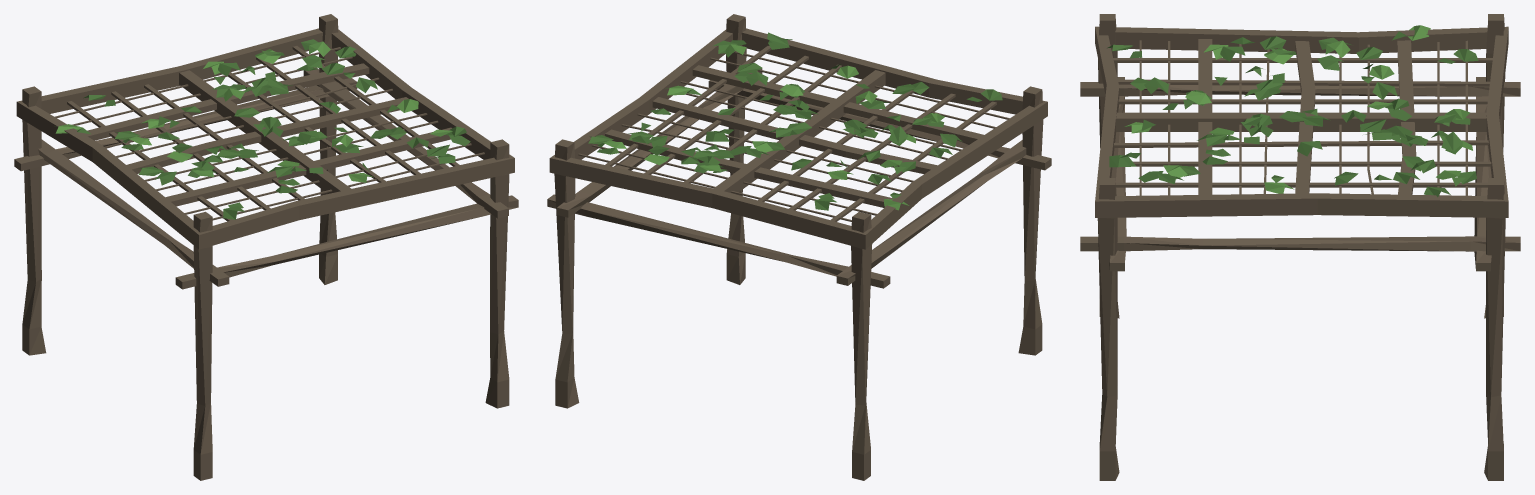
The model's file is SM_Bld_Cuba_Sunshade_01.glb.
The picture shows the model from 3 angles, left to right: view 1: azimuth 30°, elevation 25°; view 2: azimuth 150°, elevation 25°; view 3: azimuth 270°, elevation 25°; orthographic projection. The views are drawn at different scales.
Parts seen in each view (by area): view 1: SM_Bld_Cuba_Sunshade_01_part00; view 2: SM_Bld_Cuba_Sunshade_01_part00; view 3: SM_Bld_Cuba_Sunshade_01_part00.
Part boxes in pixels (<box>): SM_Bld_Cuba_Sunshade_01_part00: <box>14,14,518,480</box>; SM_Bld_Cuba_Sunshade_01_part00: <box>547,14,1051,480</box>; SM_Bld_Cuba_Sunshade_01_part00: <box>1080,14,1520,480</box>.
Bounding box in the file's own units: 4.38 × 3.28 × 4.38.
1 material, 1 textured.
